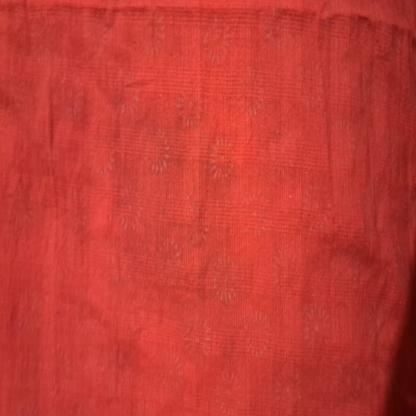spot: (186, 194, 191, 204), (288, 193, 294, 200), (224, 197, 228, 204)
